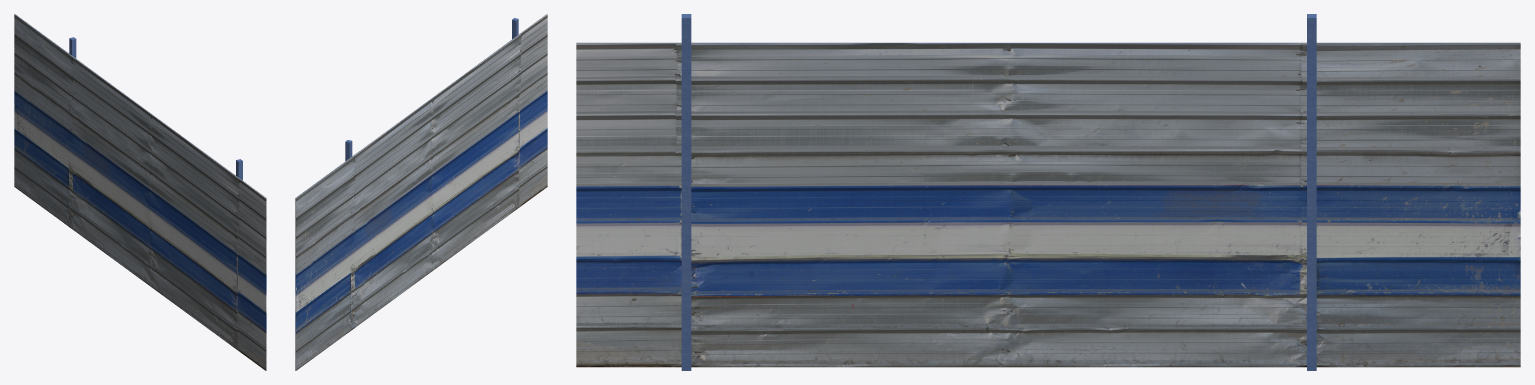
File: MetallFence01.FBX
The picture shows the model from 3 angles, left to right: view 1: azimuth 30°, elevation 25°; view 2: azimuth 150°, elevation 25°; view 3: azimuth 270°, elevation 25°; orthographic projection. The views are drawn at different scales.
Visible parts, largest first — view 1: MetallFence01, MetalFenceMetal01; view 2: MetallFence01, MetalFenceMetal01; view 3: MetallFence01, MetalFenceMetal01.
Part boxes in pixels (x1=…): MetallFence01: x1=14, y1=14, x2=266, y2=370; MetalFenceMetal01: x1=69, y1=37, x2=242, y2=180; MetallFence01: x1=295, y1=14, x2=547, y2=370; MetalFenceMetal01: x1=345, y1=18, x2=518, y2=160; MetallFence01: x1=576, y1=42, x2=1520, y2=367; MetalFenceMetal01: x1=681, y1=14, x2=1316, y2=370.
Size of the model in its own units: 6.43 by 220 by 534.
